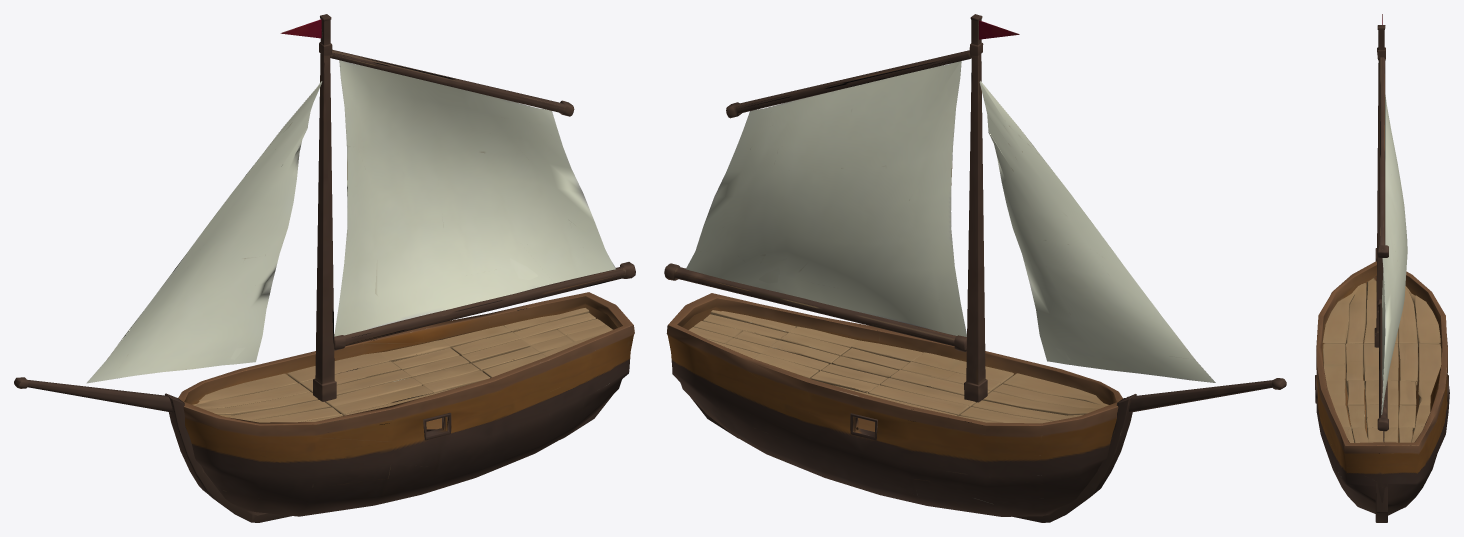
Rendered from cutter.glb.
The picture shows the model from 3 angles, left to right: view 1: azimuth 30°, elevation 25°; view 2: azimuth 150°, elevation 25°; view 3: azimuth 270°, elevation 25°; orthographic projection. The views are drawn at different scales.
Visible parts, largest first — view 1: geometry_0; view 2: geometry_0; view 3: geometry_0.
Part boxes in pixels (bbox=[...]): geometry_0: bbox=[14, 14, 635, 522]; geometry_0: bbox=[664, 14, 1286, 522]; geometry_0: bbox=[1315, 14, 1449, 522].
Bounding box in the file's own units: 0.9575 × 0.7285 × 0.2168.
1 material, 1 textured.
